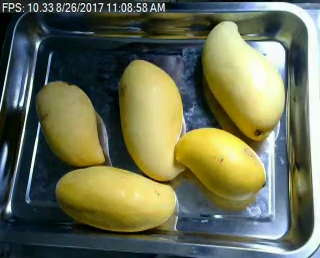Mango: (196, 16, 293, 140), (115, 54, 192, 181), (54, 163, 180, 235), (174, 124, 270, 205), (36, 77, 110, 170)
